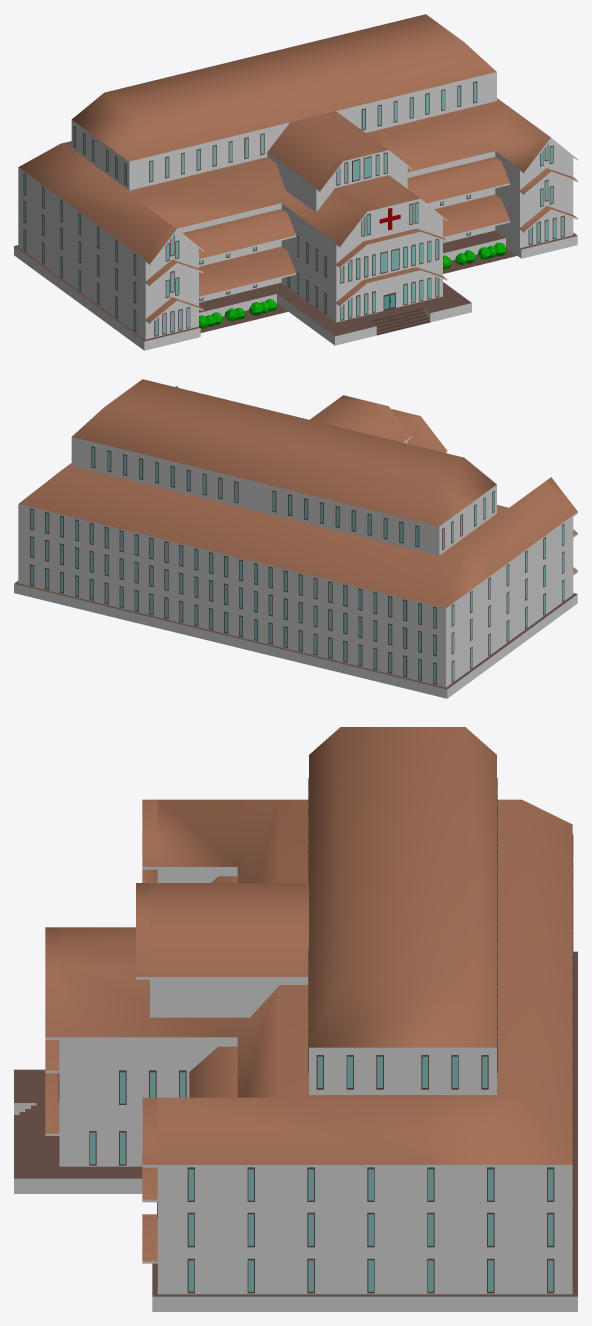
The model's file is Building_Asylum_Mod_01.fbx.
The picture shows the model from 3 angles, top to bottom: view 1: azimuth 30°, elevation 25°; view 2: azimuth 150°, elevation 25°; view 3: azimuth 270°, elevation 25°; orthographic projection. The views are drawn at different scales.
Visible parts, largest first — view 1: Asylum, Windows, WalkWay, Bushes, Stairs, Dirt; view 2: Asylum, Windows; view 3: Asylum, Windows, WalkWay, Stairs.
Part boxes in pixels (x1,y1,x2,y2): Asylum: [14, 14, 577, 350]; Windows: [23, 81, 564, 336]; WalkWay: [199, 230, 505, 345]; Bushes: [199, 242, 506, 328]; Stairs: [363, 303, 430, 335]; Dirt: [200, 248, 516, 332]; Asylum: [14, 379, 577, 698]; Windows: [30, 446, 564, 684]; Asylum: [45, 727, 577, 1311]; Windows: [14, 778, 573, 1293]; WalkWay: [14, 1069, 142, 1193]; Stairs: [14, 1103, 58, 1145].
Bounding box in the file's own units: 61.34 × 23.58 × 42.39.
